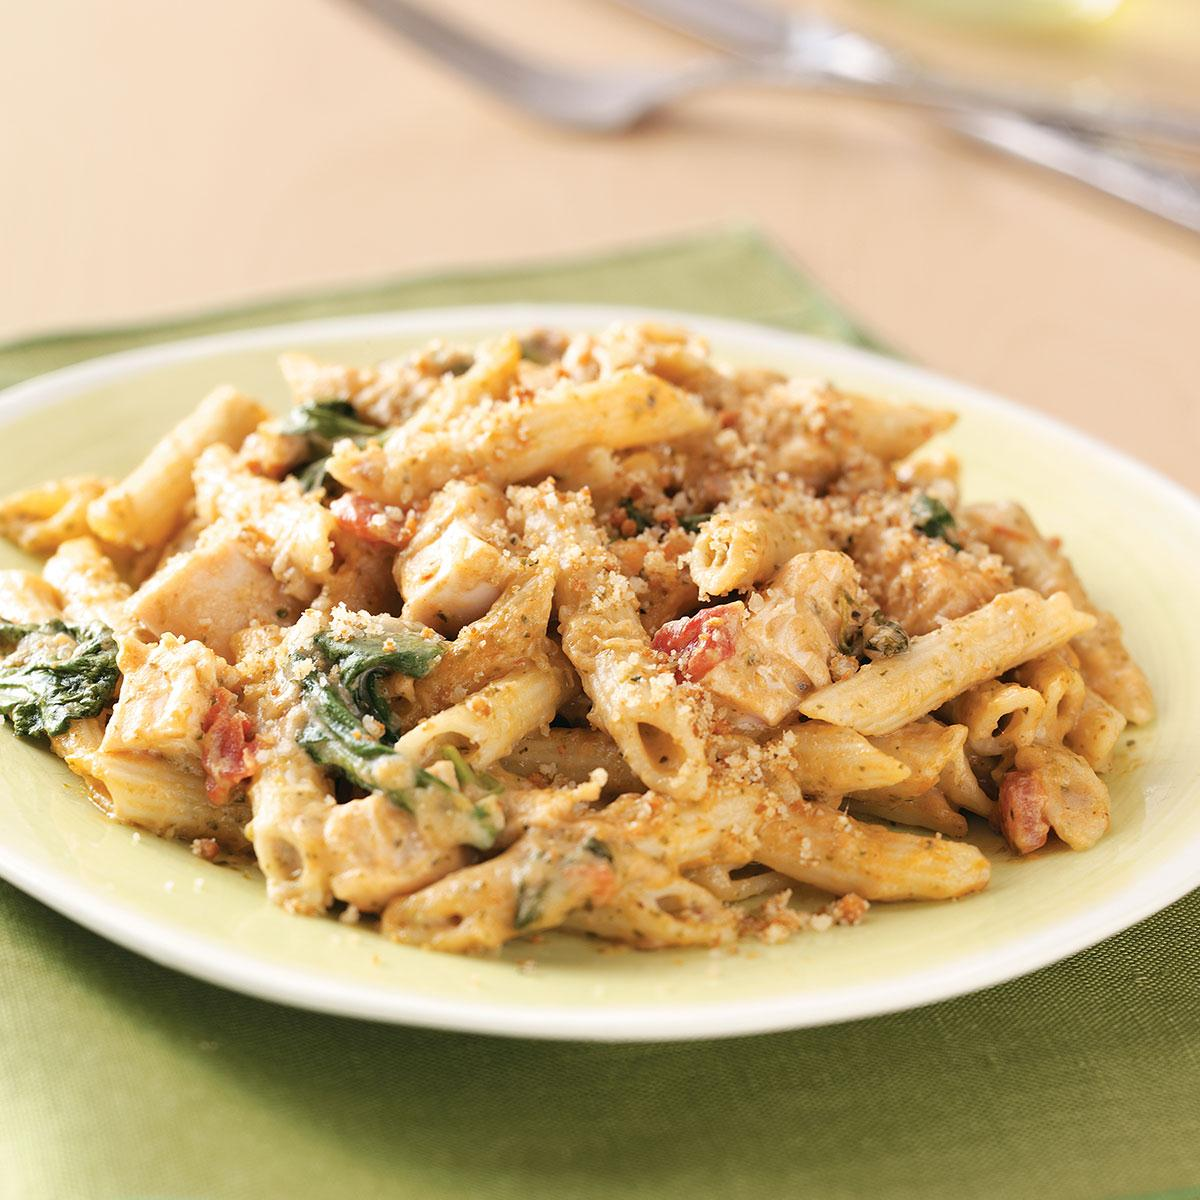plain spaghetti: (196, 475, 1011, 857)
